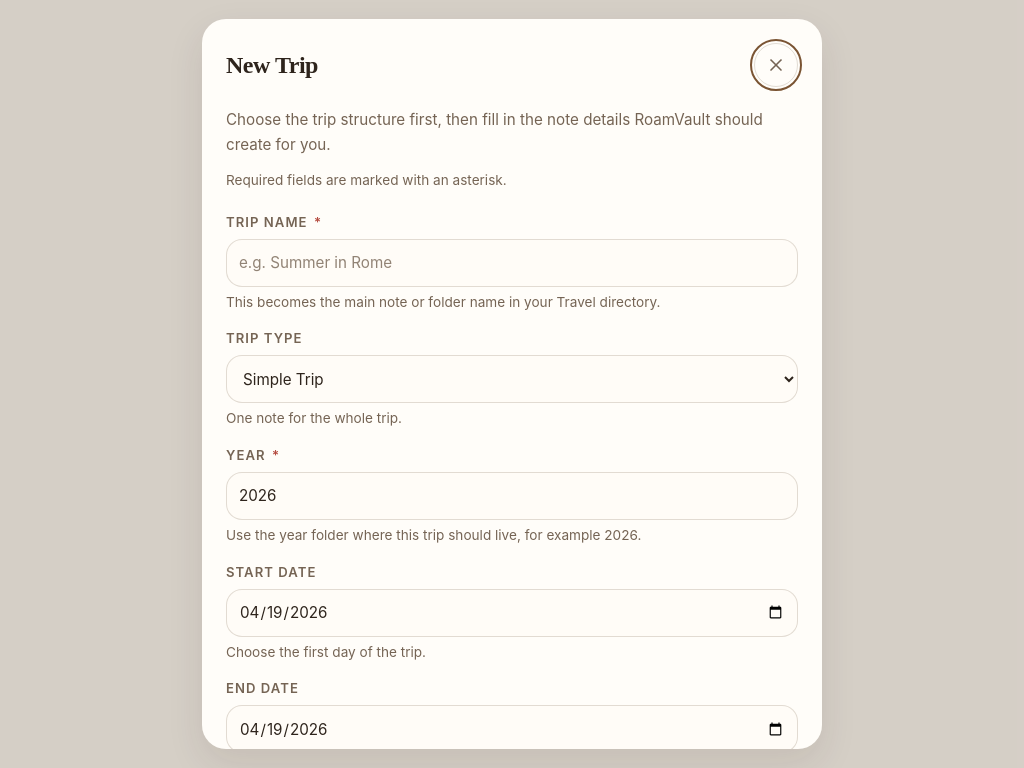
Test: createTripForm › renders and enables save when required fields are valid
Check: the heading "New Trip" is shown, box [226,53,318,77]
Type "Rome" into the field labelled "Trip Name *". click: (512, 263)
box: [226,239,798,287]
(page scrolled)
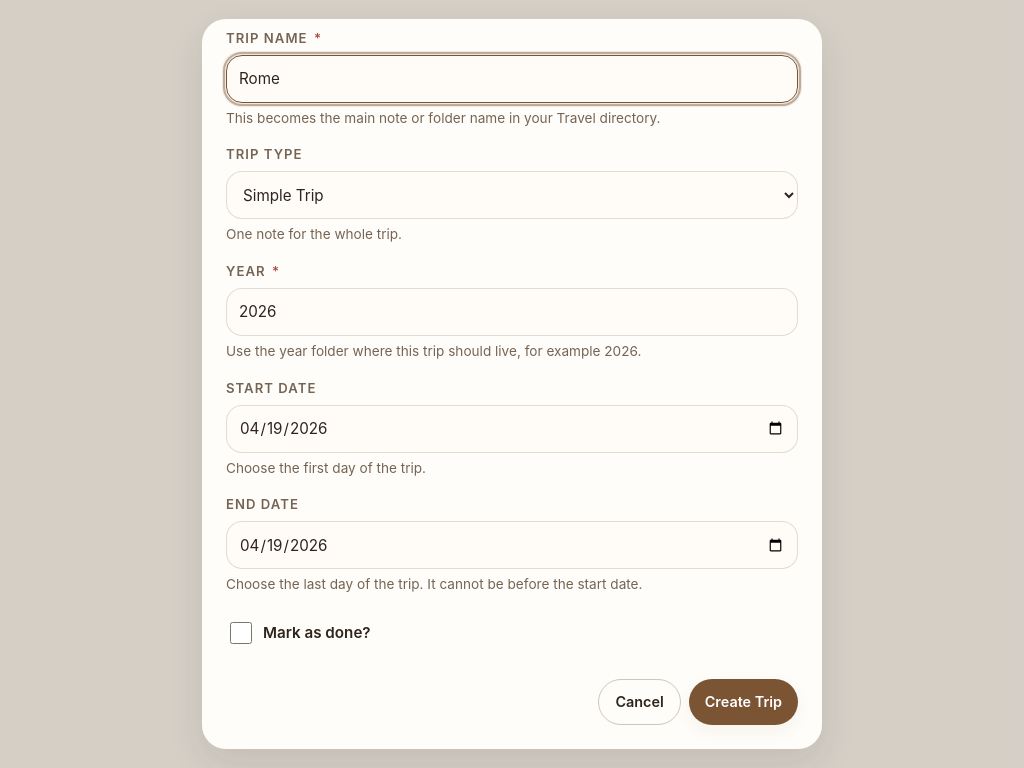
Check: the button "Create Trip" is enabled, box [689,679,798,725]
